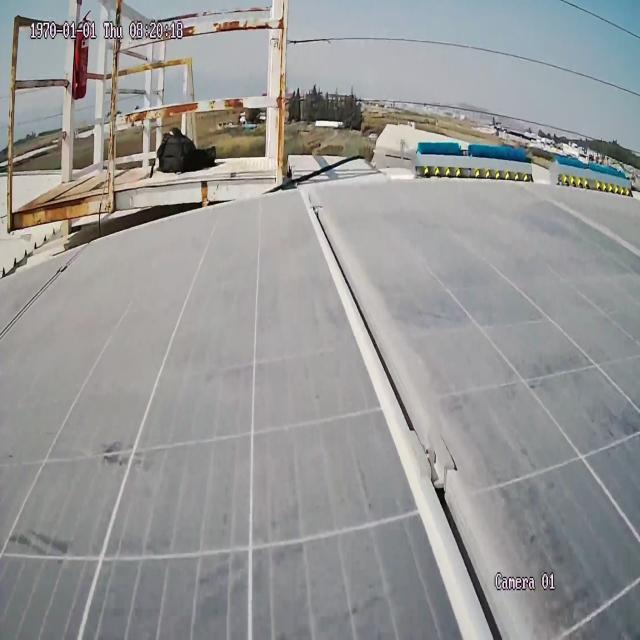interior panel: (299, 202, 560, 640)
